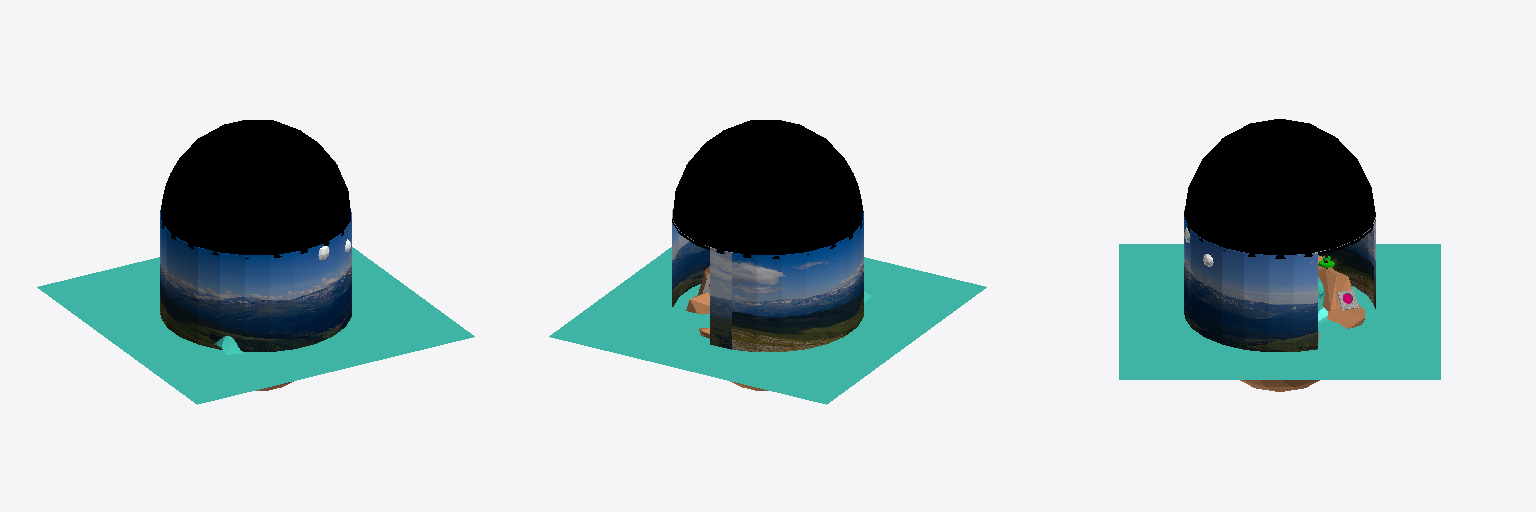
3 views of the same model, side by side, from view 1: azimuth 30°, elevation 25°; view 2: azimuth 150°, elevation 25°; view 3: azimuth 270°, elevation 25° (orthographic).
Visible parts, largest first — view 1: water_Plane, sky_sky_Icosphere_Icosphere.001, back_Cylinder_Cylinder.002; view 2: water_Plane, sky_sky_Icosphere_Icosphere.001, back_Cylinder_Cylinder.002, earth_Icosphere; view 3: water_Plane, sky_sky_Icosphere_Icosphere.001, back_Cylinder_Cylinder.002, earth_Icosphere.
Boxes of the visible parts, box(x1,y1,x2,y2) form: water_Plane: box(37, 247, 474, 404); sky_sky_Icosphere_Icosphere.001: box(160, 120, 350, 258); back_Cylinder_Cylinder.002: box(160, 208, 351, 351); water_Plane: box(549, 247, 986, 404); sky_sky_Icosphere_Icosphere.001: box(672, 120, 863, 258); back_Cylinder_Cylinder.002: box(672, 208, 863, 351); earth_Icosphere: box(686, 266, 767, 390); water_Plane: box(1119, 244, 1440, 379); sky_sky_Icosphere_Icosphere.001: box(1184, 119, 1375, 258); back_Cylinder_Cylinder.002: box(1184, 210, 1375, 351); earth_Icosphere: box(1240, 255, 1364, 391).
Bounding box in the file's own units: 4 × 3.54 × 4.
21 materials, 2 textured.